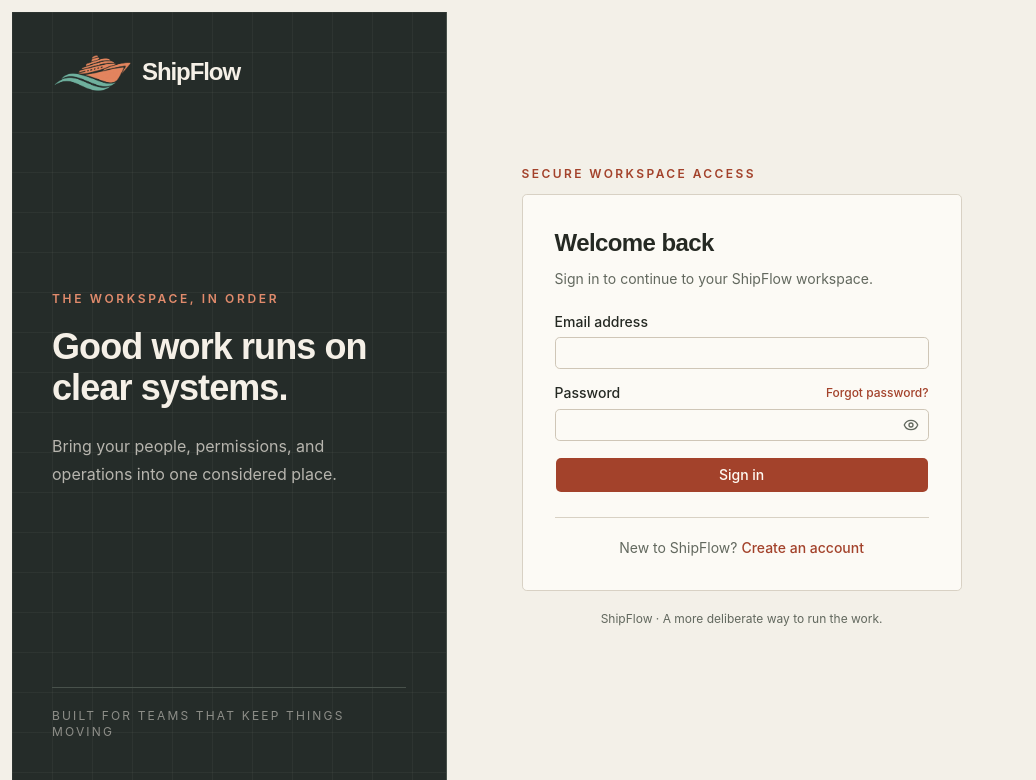
Test case: LoginPage › routes a second-factor response without creating a session
Type "user@example.com" into the field labelled "Email address" at (742, 352), box [555,336,929,368]
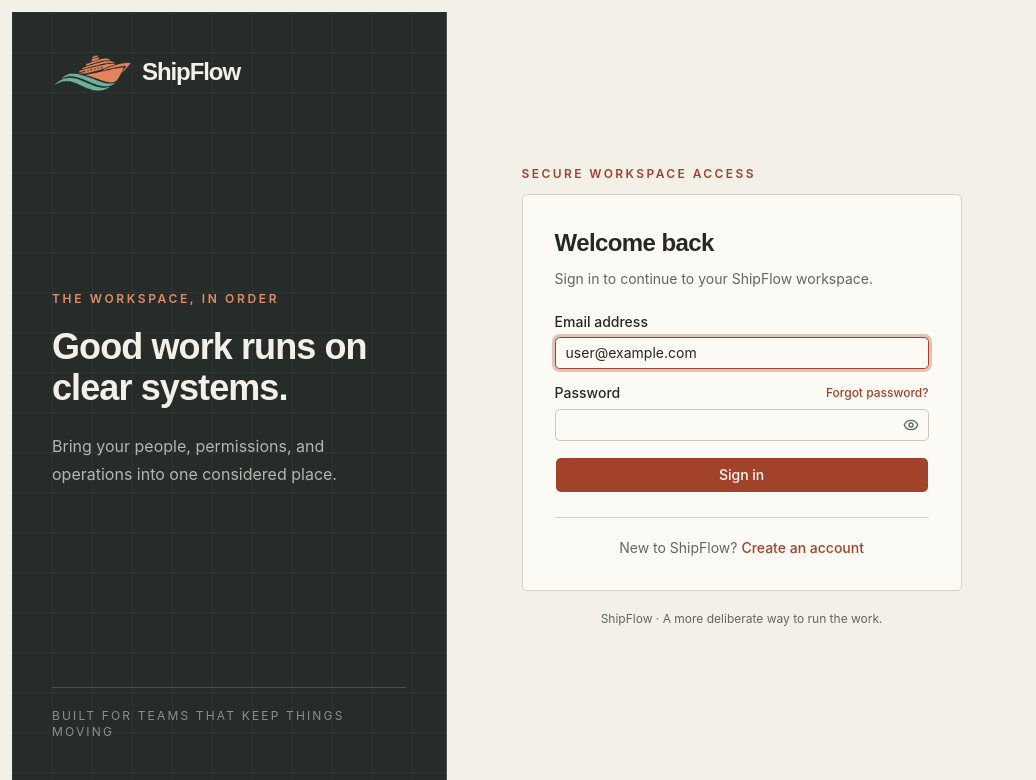
Type "correct horse battery staple" into the password field labelled "Password" at (742, 424), box [555,408,929,440]
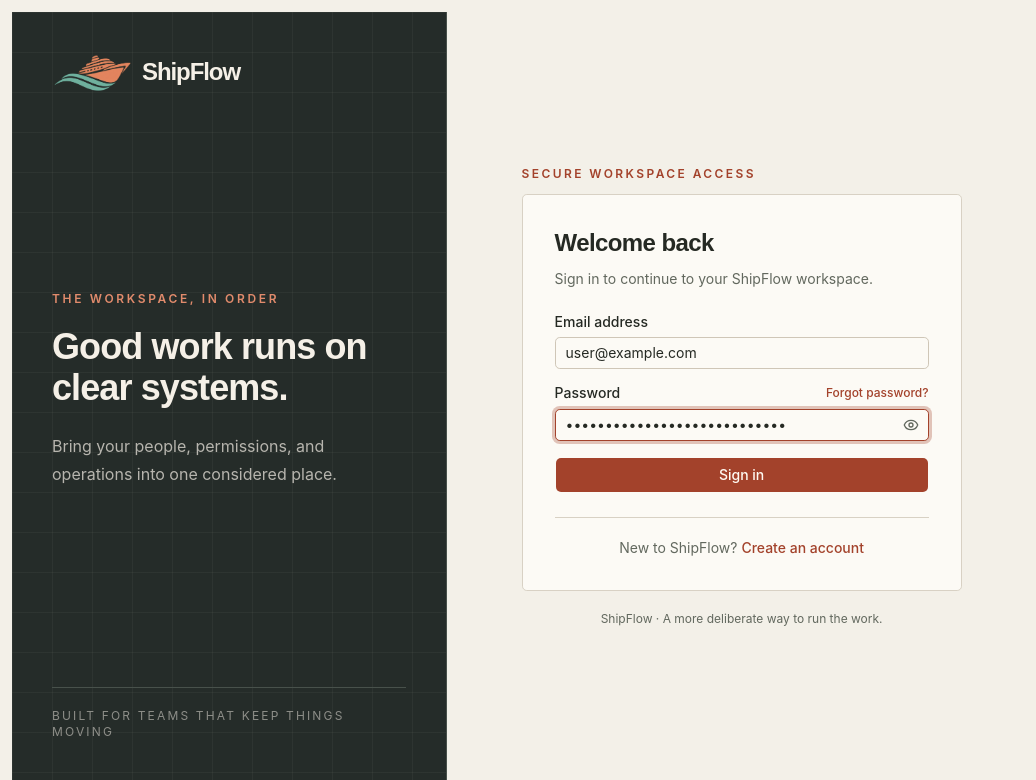
Click the button "Sign in" at (742, 474), box [555,456,929,492]
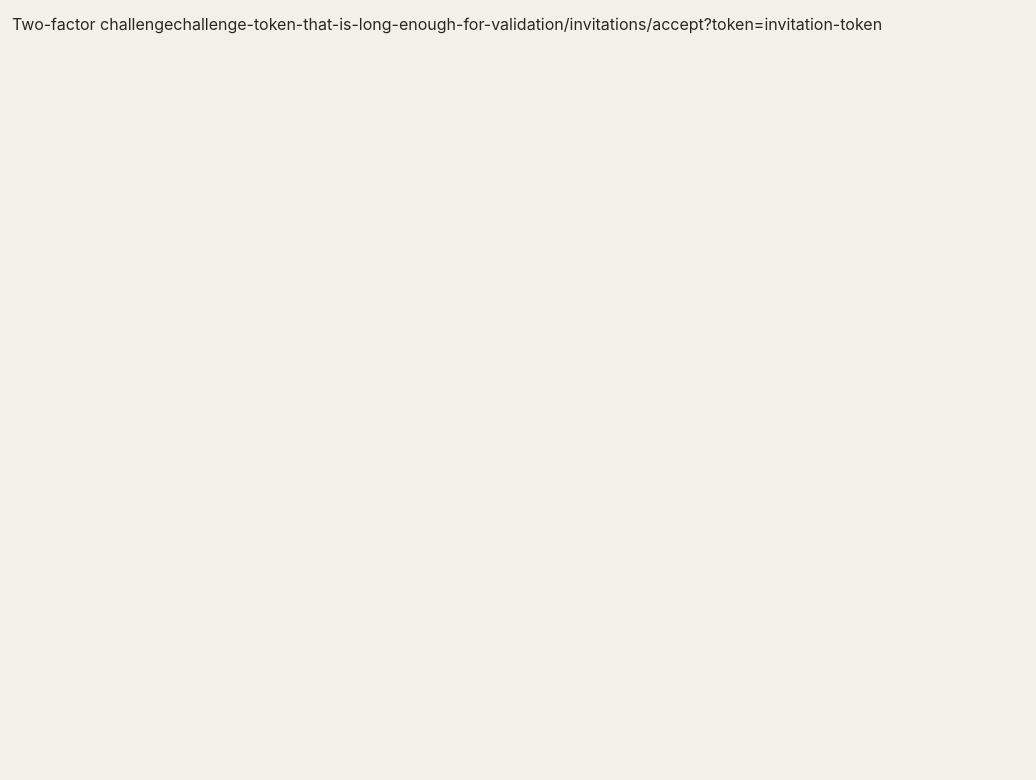
Now the text "Two-factor challenge" is shown, box [12,14,173,34]
Now the text "challenge-token-that-is-long-enough-for-validation" is shown, box [173,14,564,34]
Now the text "/invitations/accept?token=invitation-token" is shown, box [564,14,882,34]
